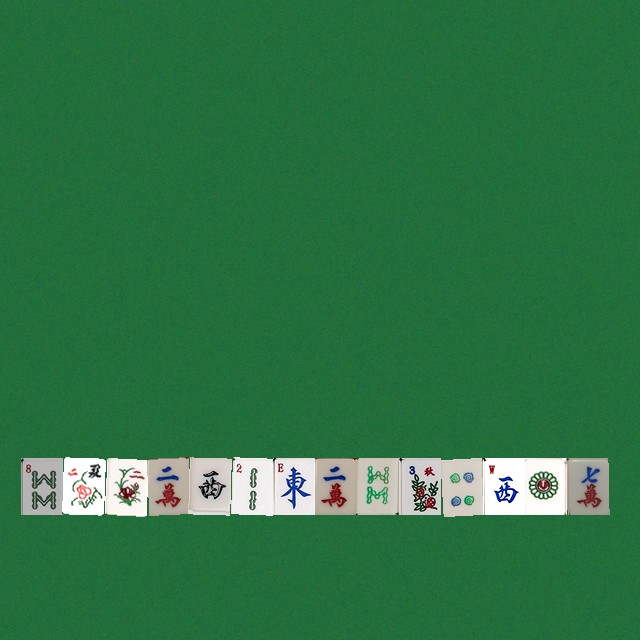tile: (20, 457, 62, 514), (62, 457, 104, 514), (104, 457, 146, 514), (146, 457, 188, 514), (188, 457, 230, 514), (230, 457, 272, 514), (272, 457, 314, 514), (314, 457, 356, 514), (356, 457, 398, 514), (398, 457, 440, 514), (440, 457, 482, 514), (482, 457, 524, 514), (524, 457, 566, 514), (566, 457, 608, 514)
